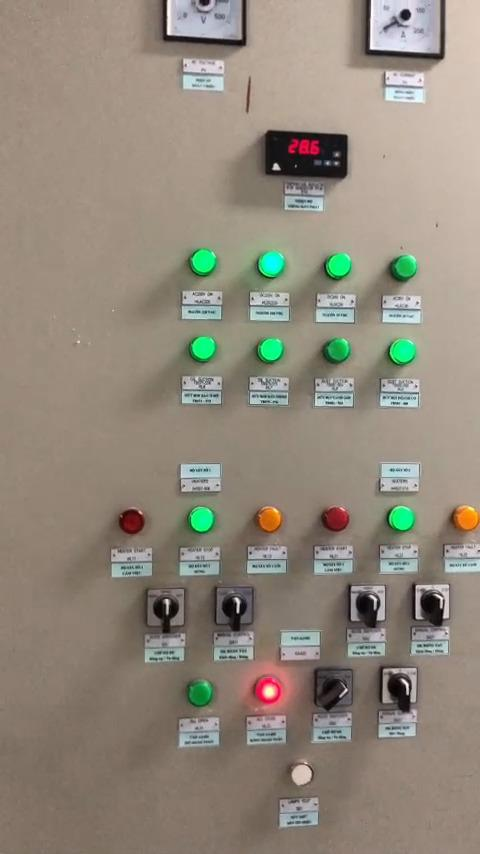led: (182, 676, 215, 709), (114, 505, 147, 535), (390, 252, 420, 283), (252, 675, 283, 705), (449, 502, 478, 532), (320, 504, 349, 534), (257, 249, 286, 278), (389, 338, 416, 368), (254, 504, 281, 534), (388, 505, 415, 535), (324, 339, 351, 368), (189, 248, 216, 276), (325, 253, 354, 279), (189, 505, 215, 534), (255, 338, 284, 362), (288, 762, 316, 786), (190, 335, 216, 360)
twist: (144, 585, 186, 630), (314, 668, 354, 712), (214, 584, 253, 628), (348, 584, 388, 625), (379, 664, 415, 706), (413, 581, 450, 621)
